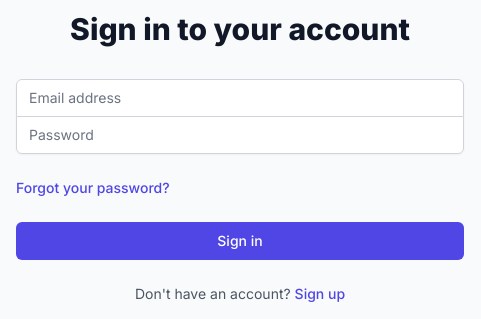
Scenario: SignIn Page › Form interactions › shows loading state when form is submitted
Step 1. Type "test@example.com" into the field labelled "Email address" → point(240, 98), box [16,78,464,116]
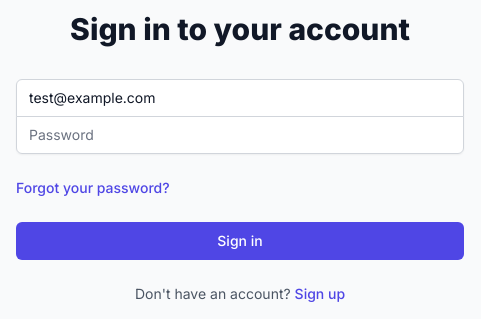
Step 2. Type "password123" into the password field labelled "Password" → point(240, 134), box [16,116,464,154]
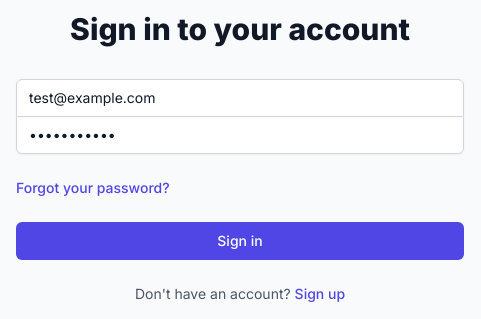
Step 3. Click the button "Sign in" → point(240, 240), box [16,222,464,260]
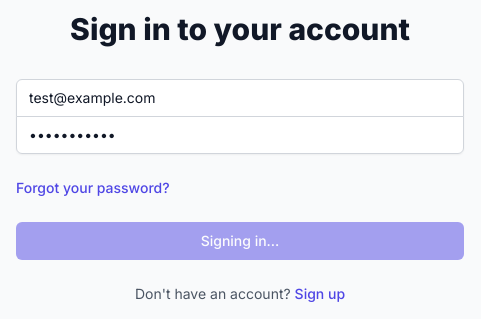
Expected: the button "Signing in..." is disabled, [16,222,464,260]
